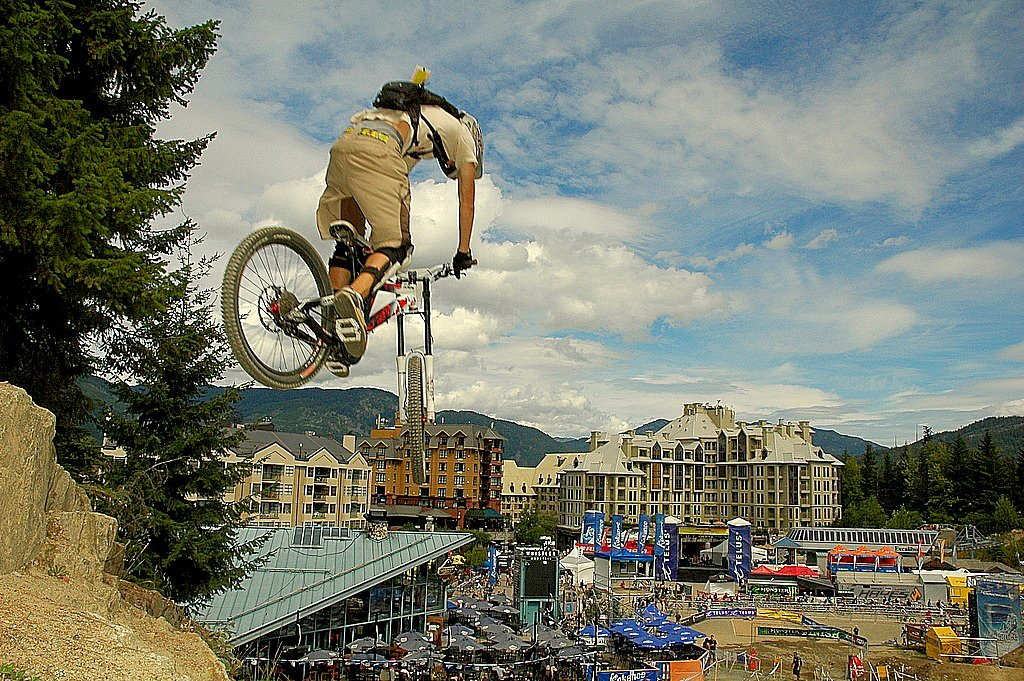Tree: (0, 0, 222, 492), (76, 212, 289, 625), (828, 424, 1022, 541)
